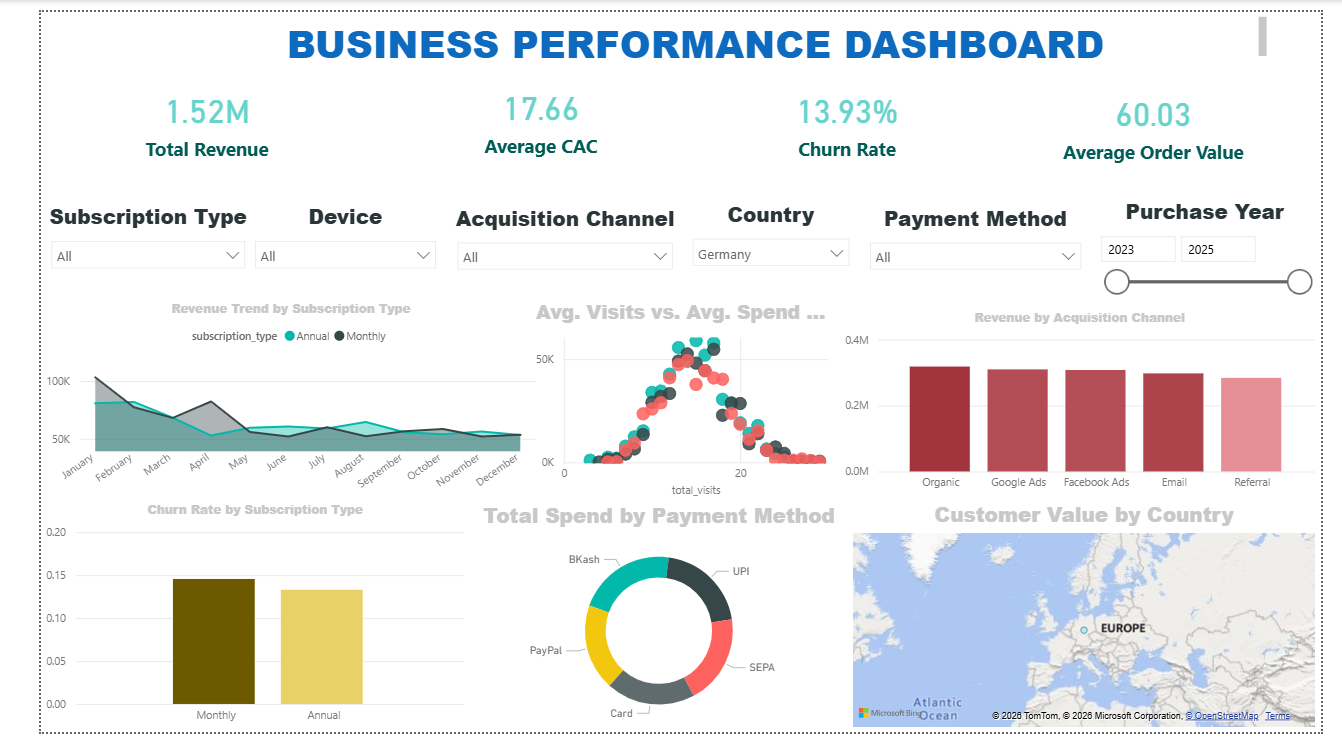

What the dashboard file says about the page in this screenshot:
{"tool":"powerbi","page":{"name":"Page 1","canvas":[1280,720],"ordinal":0},"visuals":[{"type":"card","title":"Total Revenue","fields":{"Values":["Sum(Final_Cleaned_PowerBI_Dataset.revenue)"]},"box":[0,52.2,332.5,113.7],"z":0},{"type":"card","fields":{"Values":["Avg(Final_Cleaned_PowerBI_Dataset.customer_acquisition_cost)"]},"box":[332.5,47.3,334.9,118.6],"z":1000},{"type":"card","fields":{"Values":["Final_Cleaned_PowerBI_Dataset.cRAte"]},"box":[639.3,52.2,334.9,113.7],"z":2000},{"type":"card","fields":{"Values":["Avg(Final_Cleaned_PowerBI_Dataset.average_order_value)"]},"box":[944.9,58.3,334.9,107.6],"z":3000},{"type":"clusteredColumnChart","title":"Revenue by Acquisition Channel","fields":{"Category":["Final_Cleaned_PowerBI_Dataset.acquisition_channel"],"Y":["Sum(Final_Cleaned_PowerBI_Dataset.revenue)"]},"box":[798.6,295.7,480,191.4],"z":4000},{"type":"clusteredColumnChart","title":"Churn Rate by Subscription Type","fields":{"Category":["Final_Cleaned_PowerBI_Dataset.subscription_type"],"Y":["Final_Cleaned_PowerBI_Dataset.Churn Rate"]},"box":[0,488.6,428.6,231.4],"z":5000},{"type":"slicer","title":"Purchase Year","fields":{"Values":["Final_Cleaned_PowerBI_Dataset.purchase_year"]},"box":[1047.6,184.5,232.3,101.5],"z":6000},{"type":"slicer","title":"Country","fields":{"Values":["Final_Cleaned_PowerBI_Dataset.country"]},"box":[641.4,188,177.1,87.1],"z":7000},{"type":"slicer","title":"Subscription Type","fields":{"Values":["Final_Cleaned_PowerBI_Dataset.subscription_type"]},"box":[0,189.4,214.3,102.9],"z":8000},{"type":"slicer","title":"Device","fields":{"Values":["Final_Cleaned_PowerBI_Dataset.device_type"]},"box":[204.3,190,201.4,115.7],"z":9000},{"type":"slicer","title":"Acquisition Channel","fields":{"Values":["Final_Cleaned_PowerBI_Dataset.acquisition_channel"]},"box":[405.7,191.4,235.7,88.6],"z":10000},{"type":"areaChart","title":"Revenue Trend by Subscription Type","fields":{"Category":["Final_Cleaned_PowerBI_Dataset.purchase_year","Final_Cleaned_PowerBI_Dataset.purchase_year_month.Variation.Date Hierarchy.Year","Final_Cleaned_PowerBI_Dataset.purchase_year_month.Variation.Date Hierarchy.Quarter","Final_Cleaned_PowerBI_Dataset.purchase_year_month.Variation.Date Hierarchy.Month","Final_Cleaned_PowerBI_Dataset.purchase_year_month.Variation.Date Hierarchy.Day"],"Series":["Final_Cleaned_PowerBI_Dataset.subscription_type"],"Y":["Sum(Final_Cleaned_PowerBI_Dataset.revenue)"]},"box":[0,287.1,500,201.4],"z":11000},{"type":"textbox","box":[111.2,0,1119.7,55],"z":12000},{"type":"map","title":"Customer Value by Country","fields":{"Category":["Final_Cleaned_PowerBI_Dataset.country"],"Size":["Sum(Final_Cleaned_PowerBI_Dataset.lifetime_value)"]},"box":[807.1,487.1,471.4,232.9],"z":13000},{"type":"donutChart","title":"Total Spend by Payment Method","fields":{"Category":["Final_Cleaned_PowerBI_Dataset.payment_method"],"Y":["Sum(Final_Cleaned_PowerBI_Dataset.total_spent)"]},"box":[428.6,488.6,378.6,231.4],"z":14000},{"type":"scatterChart","title":"Avg. Visits vs. Avg. Spend by Country","fields":{"X":["Final_Cleaned_PowerBI_Dataset.total_visits"],"Y":["Sum(Final_Cleaned_PowerBI_Dataset.total_spent)"],"Series":["Final_Cleaned_PowerBI_Dataset.device_type"]},"box":[490,285.7,308.6,202.9],"z":15000},{"type":"slicer","title":"Payment Method","fields":{"Values":["Final_Cleaned_PowerBI_Dataset.payment_method"]},"box":[818.6,190.9,231.4,90],"z":16000}]}

Visuals, with their boxes in screenshot pixels (x1, y1, x2, y2), scaled from the page's 1280x720 canvas onto the 1342x756 screenshot:
"Total Revenue" card: x1=0 y1=55 x2=349 y2=174
card - Avg(Final_Cleaned_PowerBI_Dataset.customer_acquisition_cost): x1=349 y1=50 x2=700 y2=174
card - Final_Cleaned_PowerBI_Dataset.cRAte: x1=670 y1=55 x2=1021 y2=174
card - Avg(Final_Cleaned_PowerBI_Dataset.average_order_value): x1=991 y1=61 x2=1341 y2=174
"Revenue by Acquisition Channel" clusteredColumnChart: x1=837 y1=310 x2=1341 y2=511
"Churn Rate by Subscription Type" clusteredColumnChart: x1=0 y1=513 x2=449 y2=755
"Purchase Year" slicer: x1=1098 y1=194 x2=1341 y2=300
"Country" slicer: x1=672 y1=197 x2=858 y2=289
"Subscription Type" slicer: x1=0 y1=199 x2=225 y2=307
"Device" slicer: x1=214 y1=200 x2=425 y2=321
"Acquisition Channel" slicer: x1=425 y1=201 x2=672 y2=294
"Revenue Trend by Subscription Type" areaChart: x1=0 y1=301 x2=524 y2=513
textbox: x1=117 y1=0 x2=1291 y2=58
"Customer Value by Country" map: x1=846 y1=511 x2=1340 y2=755
"Total Spend by Payment Method" donutChart: x1=449 y1=513 x2=846 y2=755
"Avg. Visits vs. Avg. Spend by Country" scatterChart: x1=514 y1=300 x2=837 y2=513
"Payment Method" slicer: x1=858 y1=200 x2=1101 y2=295
